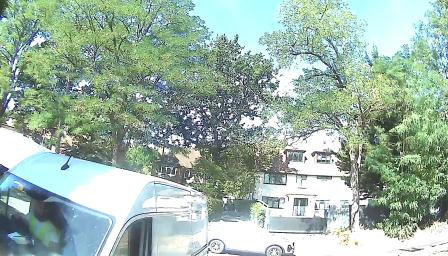Cars: (206, 211, 293, 256)
